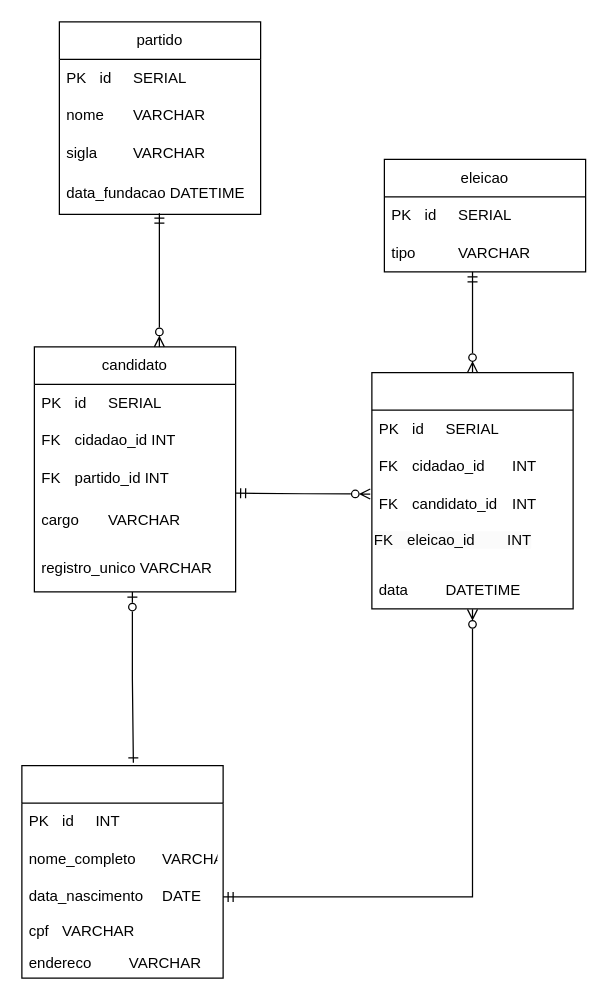
Some shapes in this 608 by 1000 pixel diagram are drawn without their labels. Each missing label, with the box of its shape:
cidadao: (21, 764, 223, 978)
voto: (371, 371, 573, 609)
